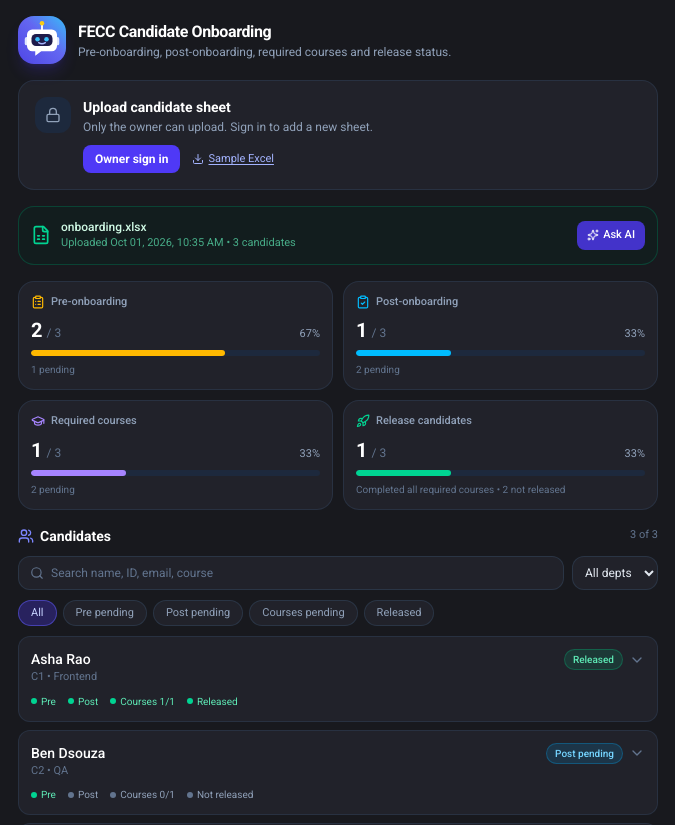
Test: DashboardView › filters candidates from the summary cards and chips
This screenshot has width=675, height=825.
Step 1. Click the button "Pre pending" → (105, 613), box x1=62 y1=600 x2=147 y2=626
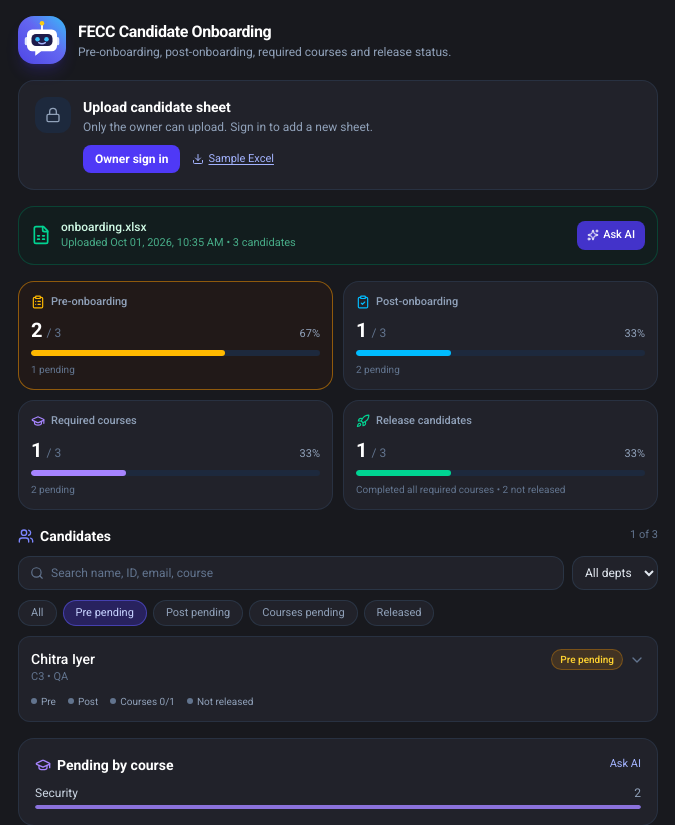
Check: the text "Chitra Iyer" is shown, box x1=31 y1=649 x2=95 y2=669
Check: the text "1 of 3" is shown, box x1=630 y1=527 x2=658 y2=544
Check: the button "Asha Rao" is gone
Step 2. Type "asha" into the search field named "Search candidates" → (291, 572), box x1=18 y1=556 x2=564 y2=590
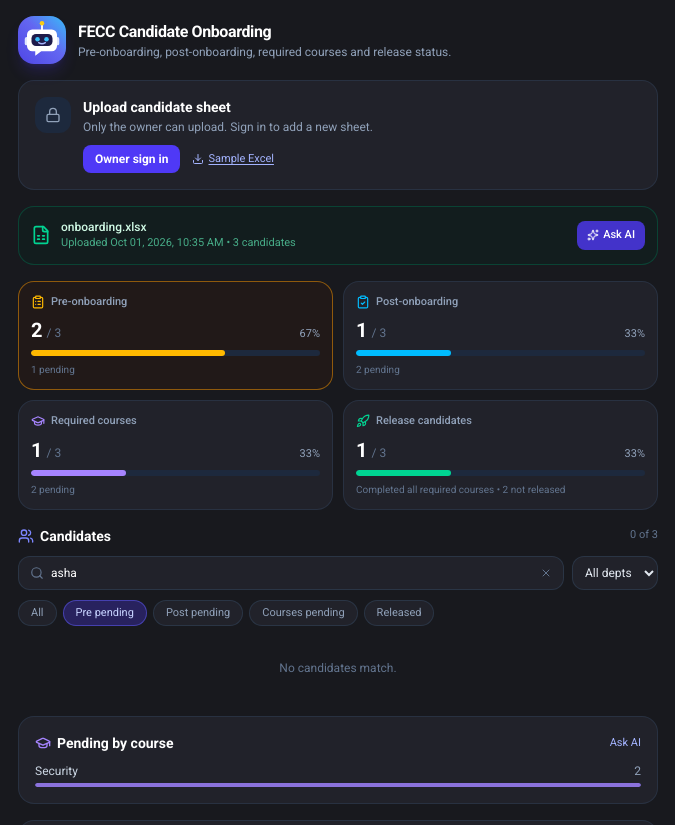
Step 3. Click the button "All" → (37, 613), box x1=18 y1=600 x2=56 y2=626
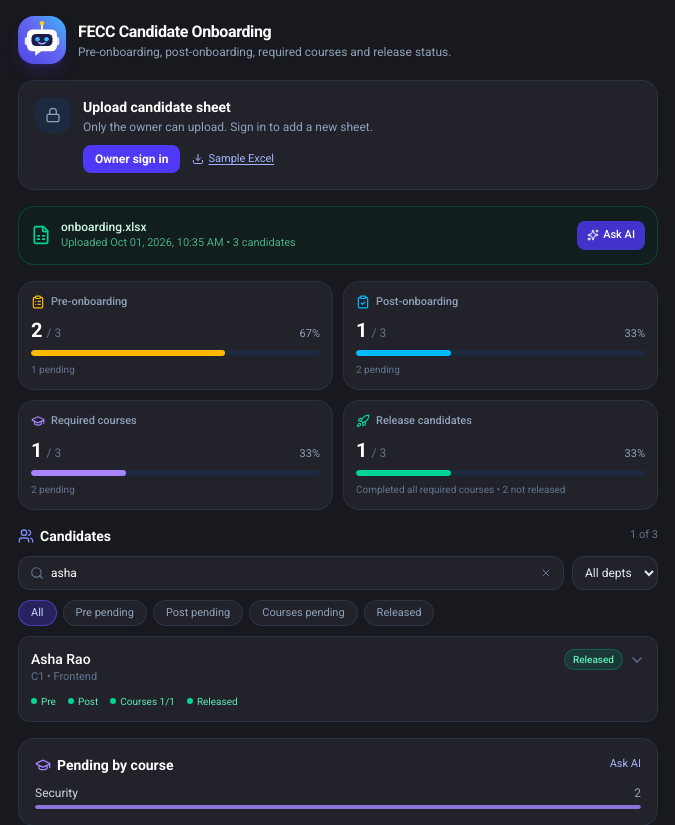
Check: the text "1 of 3" is shown, box x1=630 y1=527 x2=658 y2=544
